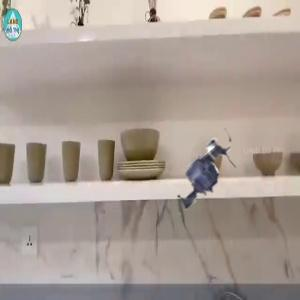drone: (144, 117, 253, 226)
